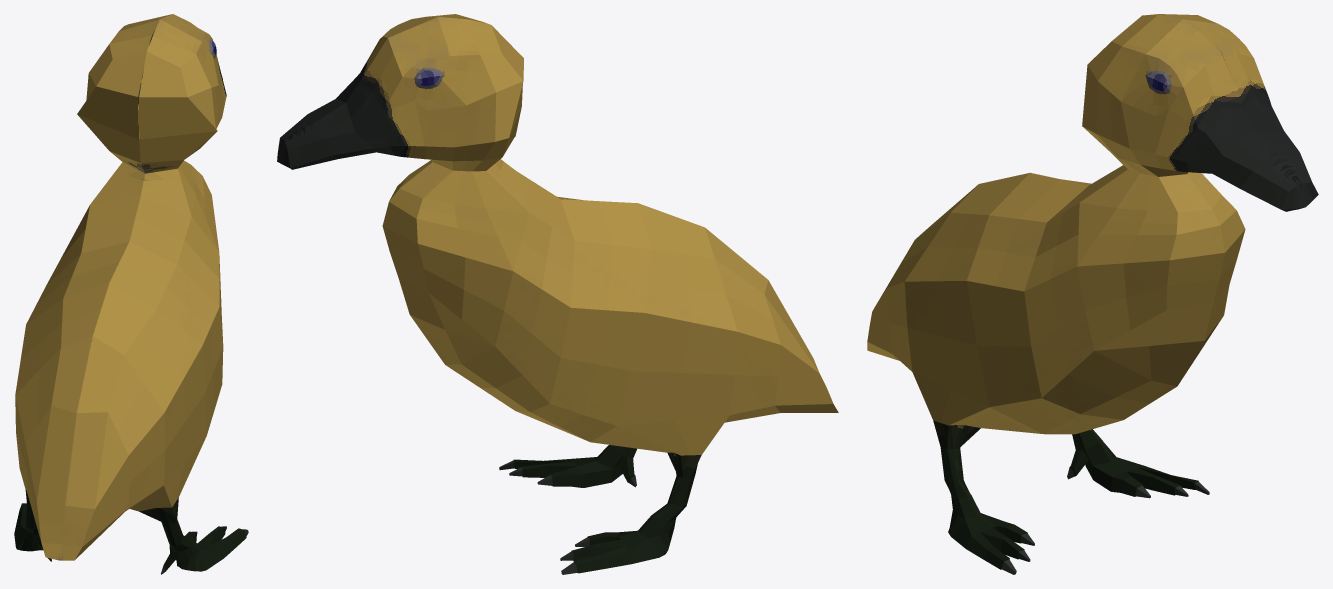
Rendered from duck.glb.
3 renders of one model, left to right at view 1: azimuth 30°, elevation 25°; view 2: azimuth 150°, elevation 25°; view 3: azimuth 270°, elevation 25°, orthographic. The views are drawn at different scales.
Parts seen in each view (by area): view 1: Object_4; view 2: Object_4; view 3: Object_4.
Boxes of the visible parts, x1=… form: Object_4: x1=14, y1=14, x2=248, y2=574; Object_4: x1=277, y1=14, x2=838, y2=574; Object_4: x1=867, y1=14, x2=1318, y2=574.
Size of the model in its own units: 1.54 by 2.02 by 1.5.
1 material, 1 textured.
